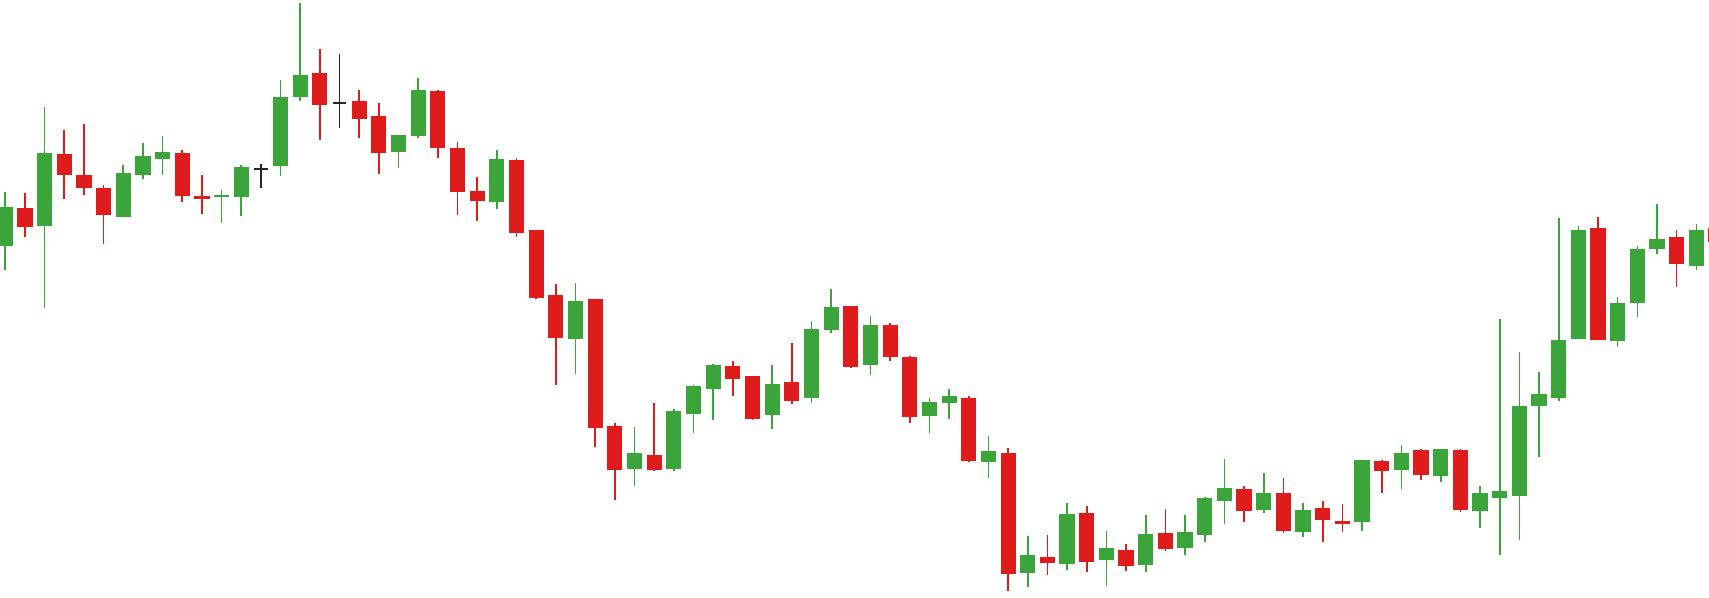sell: (33, 5, 326, 169)
